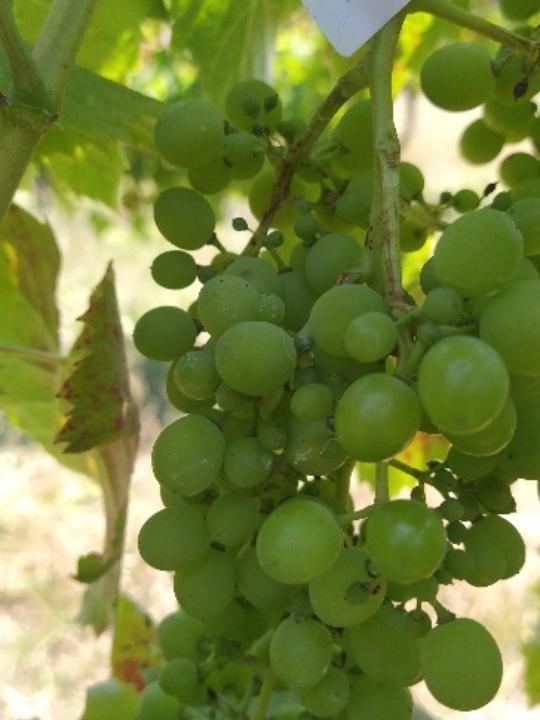grape: (113, 0, 540, 720)
